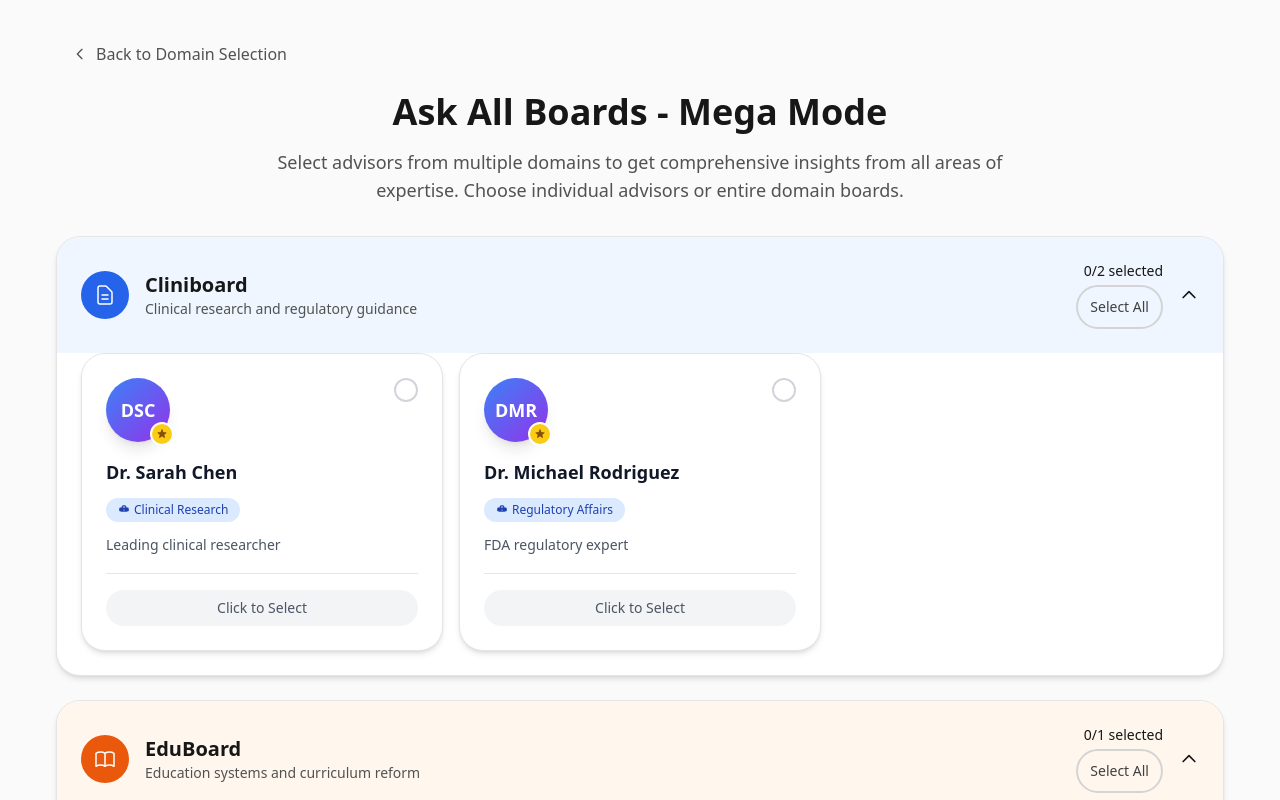
Test: MultiDomainAdvisorPanel › allows selecting all advisors from a domain
Expected: the heading "Ask All Boards - Mega Mode" is shown, 393,87 -> 887,136
# Click "Select All" for Cliniboard
Click the button "Select All" in the row of "Cliniboard" at (1120, 307), box 1076,285 -> 1163,329
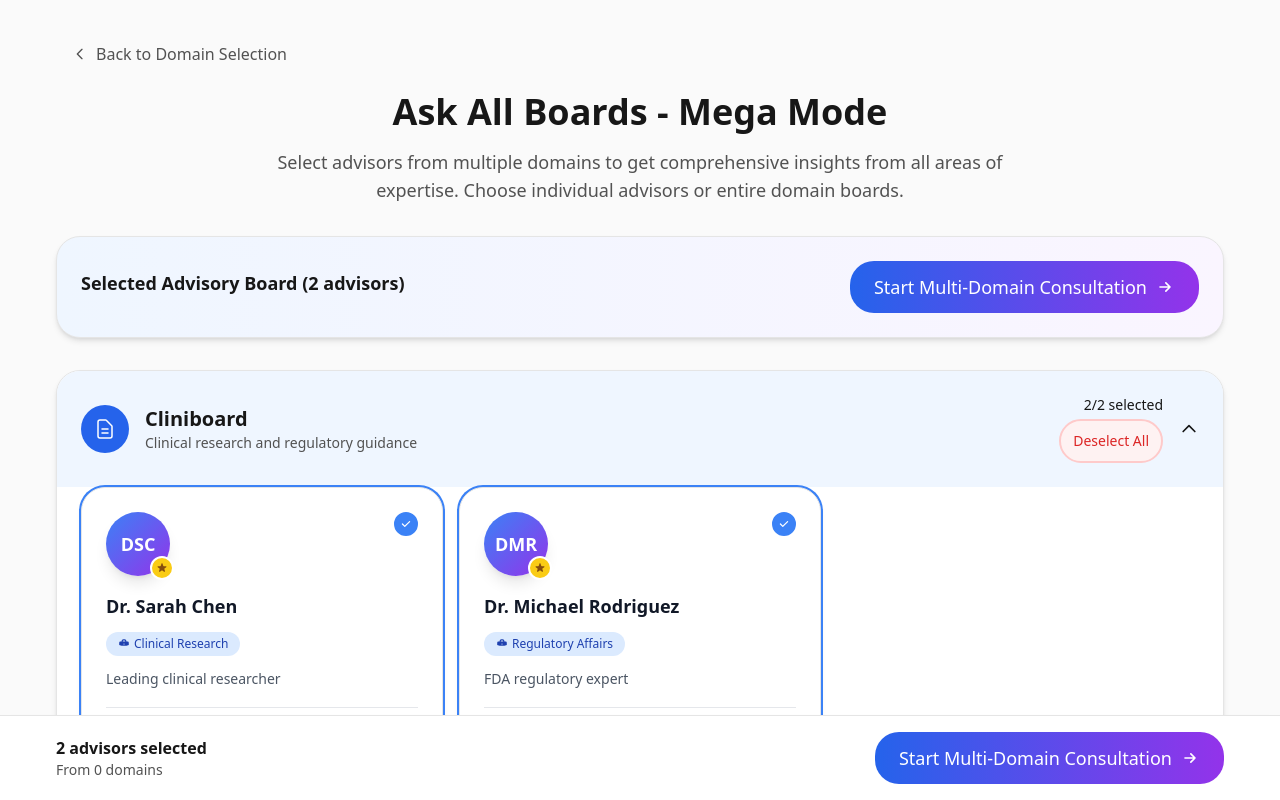
Expected: the heading "Selected Advisory Board (2 advisors)" is shown, 81,269 -> 405,297
